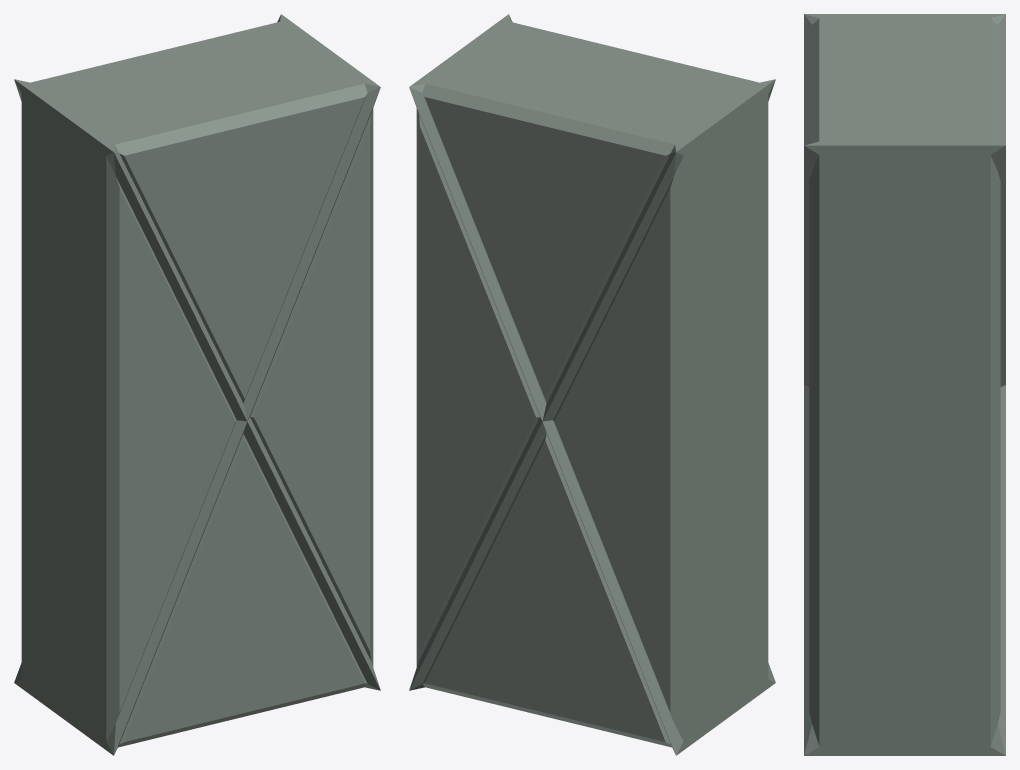
File: SM_container_01.fbx
The picture shows the model from 3 angles, left to right: view 1: azimuth 30°, elevation 25°; view 2: azimuth 150°, elevation 25°; view 3: azimuth 270°, elevation 25°; orthographic projection.
Visible parts, largest first — view 1: container_01; view 2: container_01; view 3: container_01.
Boxes of the visible parts, x1,y1,x2,y2 form: container_01: (14,14,380,755); container_01: (409,14,775,755); container_01: (804,14,1005,755).
Bounding box in the file's own units: 61.49 × 133 × 39.83.
